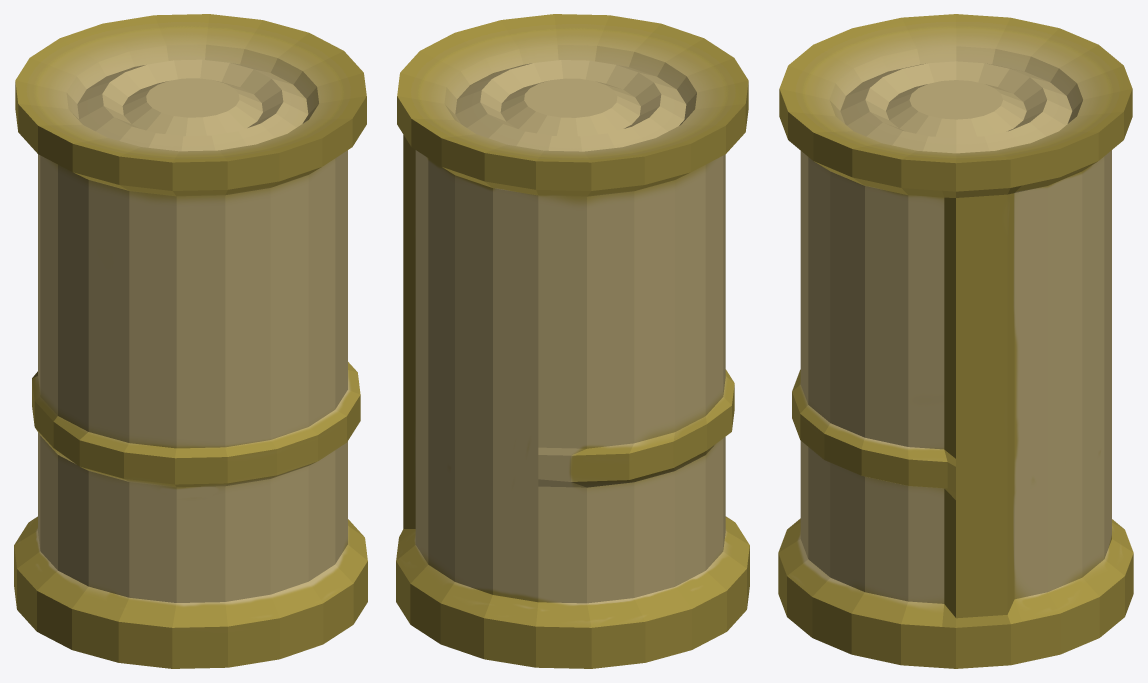
File: tatame_enrolado.fbx
3 views of the same model, side by side, from view 1: azimuth 30°, elevation 25°; view 2: azimuth 150°, elevation 25°; view 3: azimuth 270°, elevation 25° (orthographic).
Parts seen in each view (by area): view 1: Cylinder; view 2: Cylinder; view 3: Cylinder.
Part boxes in pixels (bbox=[...]): Cylinder: bbox=[14, 14, 367, 668]; Cylinder: bbox=[396, 14, 749, 668]; Cylinder: bbox=[778, 14, 1133, 668].
Size of the model in its own units: 228 by 358 by 228.
Materials: 1 (1 with a texture image).
